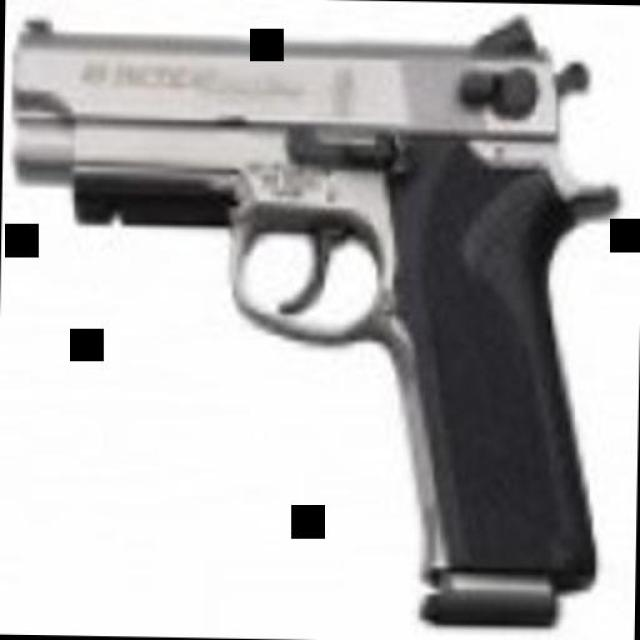gun: (9, 4, 609, 632)
